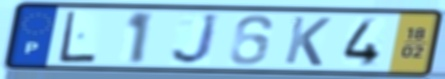1: (124, 10, 155, 67)
4: (340, 17, 384, 68)
6: (227, 13, 275, 67)
J: (169, 12, 222, 67)
K: (281, 14, 334, 68)
L: (57, 9, 99, 64)
